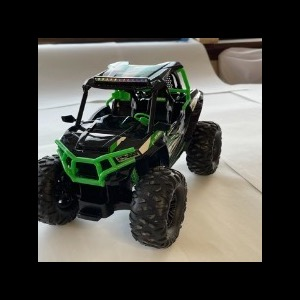polaris: (40, 61, 224, 249)
